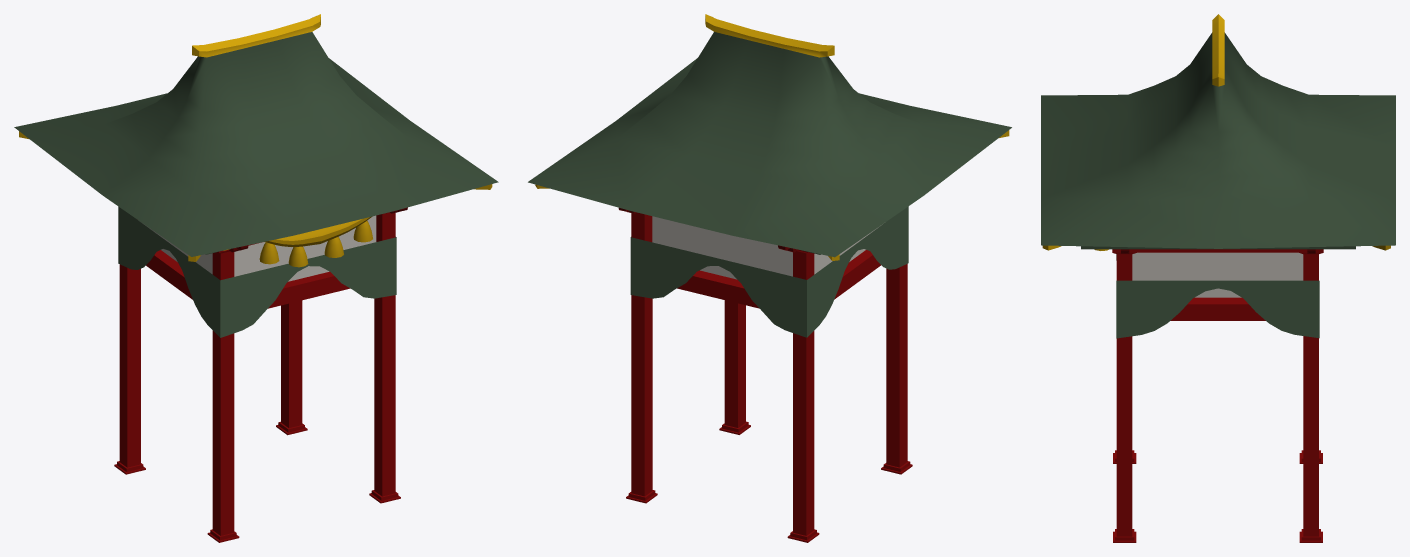
Rendered from High shrine.fbx.
3 views of the same model, side by side, from view 1: azimuth 30°, elevation 25°; view 2: azimuth 150°, elevation 25°; view 3: azimuth 270°, elevation 25° (orthographic).
Parts seen in each view (by area): view 1: extra 1; view 2: extra 1; view 3: extra 1.
Boxes of the visible parts, left/top/right/bottom form: extra 1: left=14, top=14, right=498, bottom=542; extra 1: left=528, top=14, right=1011, bottom=542; extra 1: left=1041, top=14, right=1395, bottom=542.
Bounding box in the file's own units: 476 × 669 × 476.
